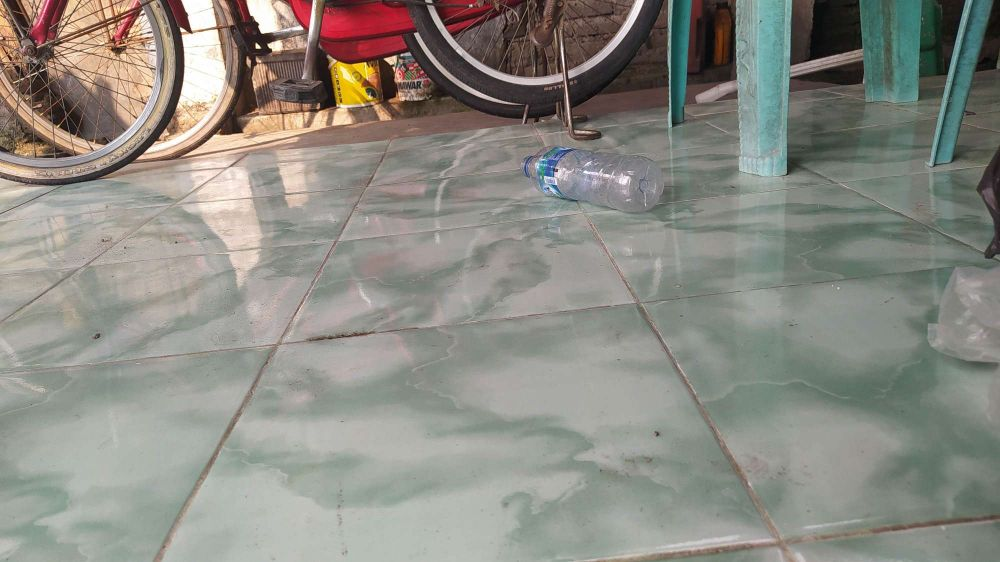botol: (516, 135, 668, 220)
plastik: (925, 243, 1000, 388)
